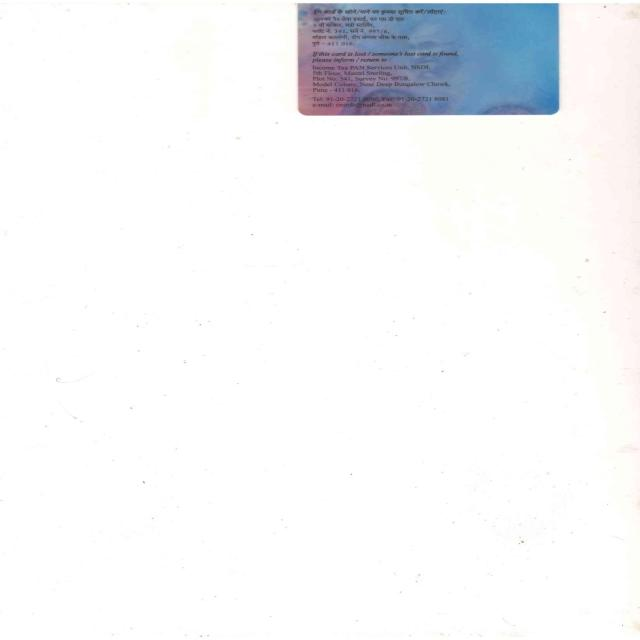pan_card: (298, 4, 556, 118)
